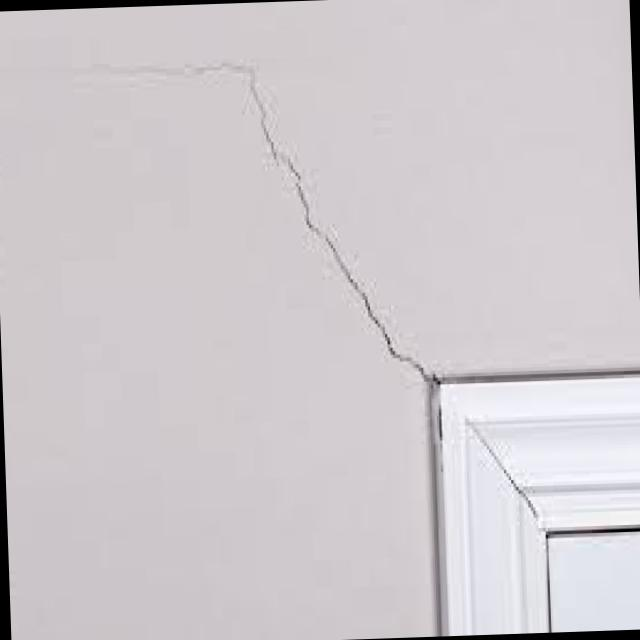crack: (119, 49, 435, 388)
